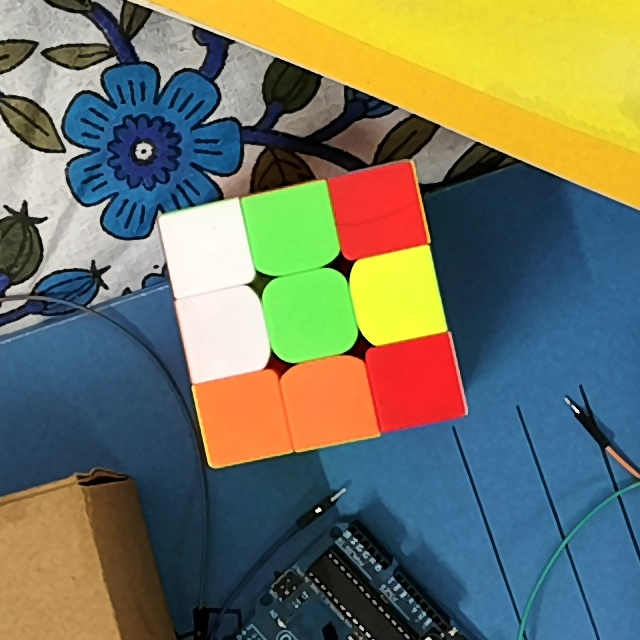tile: (380, 346, 450, 417), (364, 262, 433, 332), (295, 368, 364, 436), (346, 177, 413, 244), (274, 282, 344, 346), (258, 197, 327, 259), (209, 385, 275, 449), (194, 299, 256, 364), (177, 216, 239, 280)
